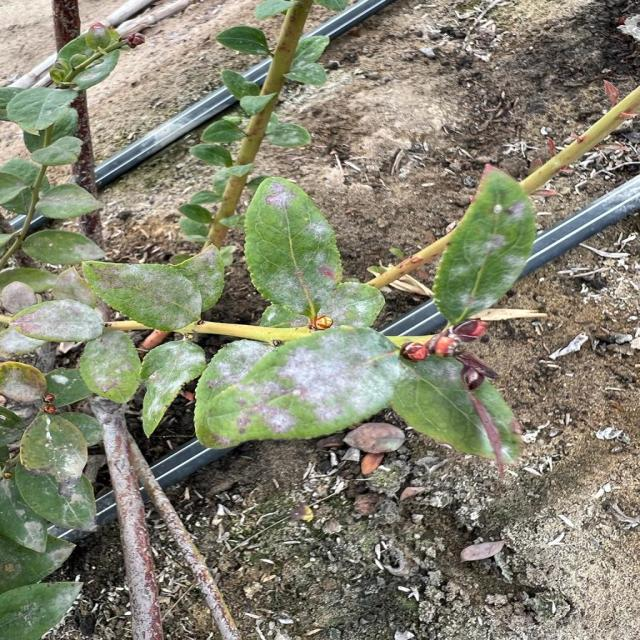Hojas con oidiosis: (242, 342, 394, 435), (28, 429, 100, 521), (461, 200, 525, 298), (267, 185, 330, 252), (150, 336, 186, 424), (19, 305, 109, 339), (84, 347, 135, 391), (11, 594, 77, 623)
